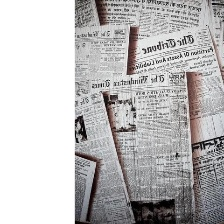news_paper: (74, 68, 198, 224), (128, 24, 224, 224), (73, 88, 139, 224), (93, 0, 206, 56), (73, 22, 135, 82), (73, 150, 99, 224), (204, 0, 224, 80), (73, 0, 105, 31)
